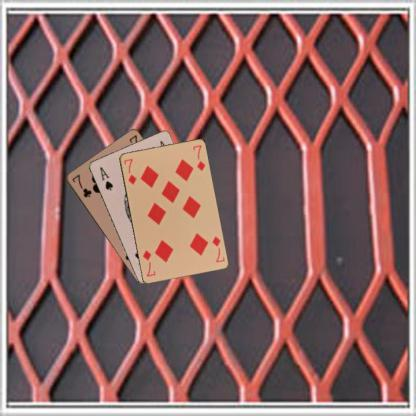7c: (70, 172, 92, 198)
7d: (209, 234, 225, 264), (122, 156, 138, 185)
As: (97, 164, 114, 192)
